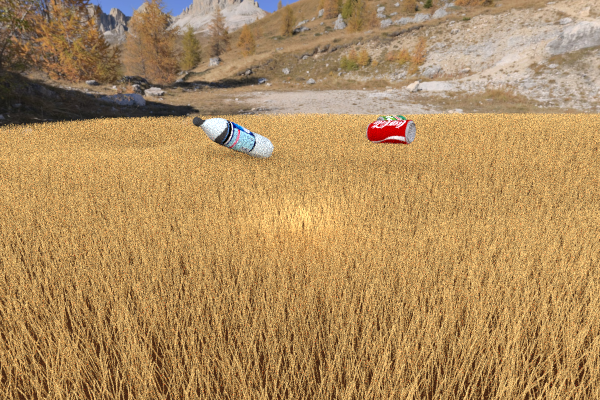bottle: (192, 116, 273, 159)
can: (366, 119, 415, 144), (375, 115, 407, 132)
